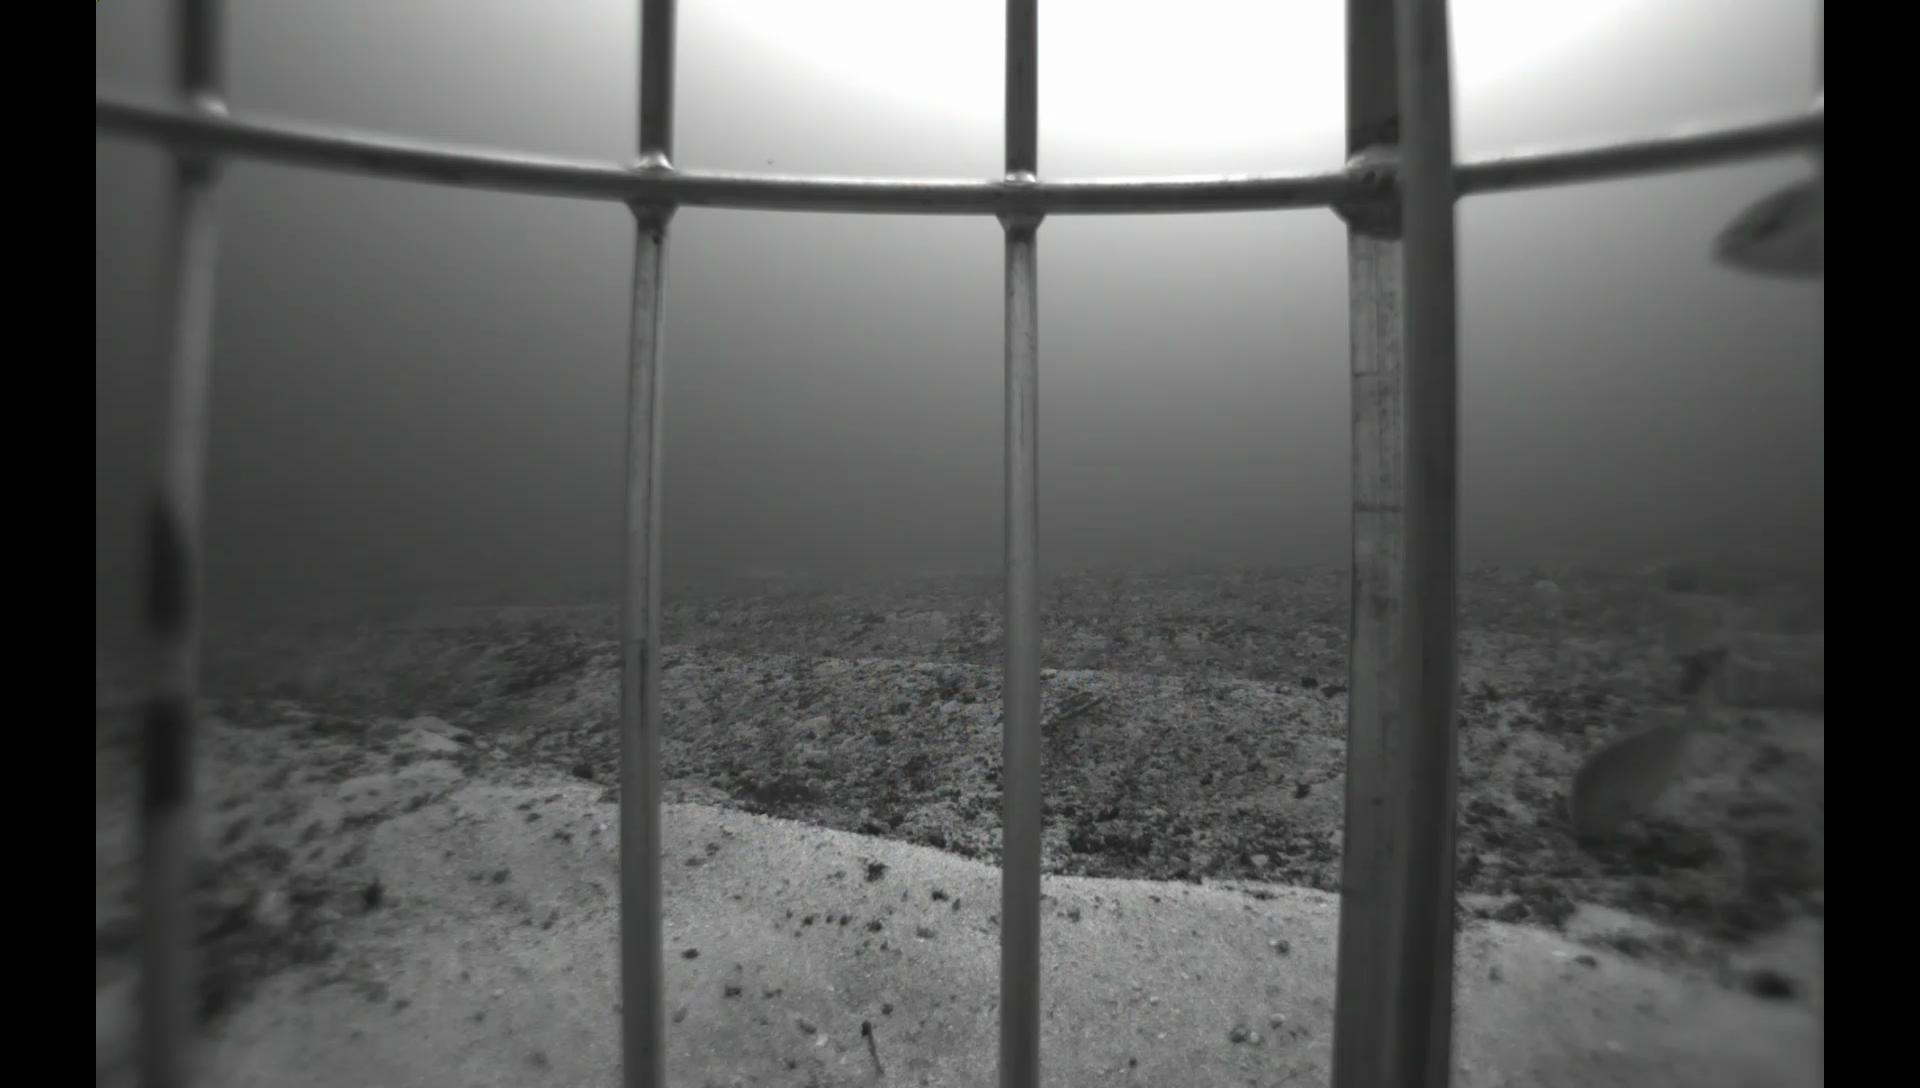CALAMUSPRORIDENS-170210605: (1557, 663, 1735, 848)
RHOMBOPLITESAURORUBENS-170152001: (1644, 593, 1750, 666)
SERIOLAFASCIATA-170113103: (1702, 160, 1824, 291)
